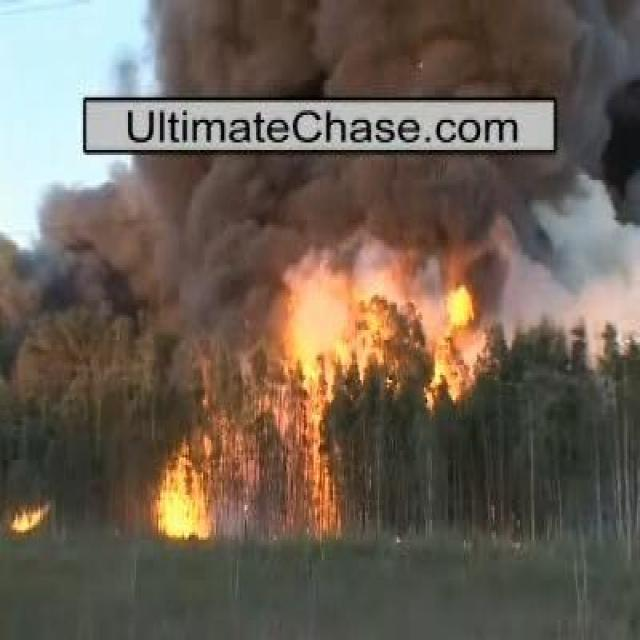fire: (160, 470, 209, 534), (13, 506, 49, 532)
smoke: (49, 166, 606, 298), (152, 8, 578, 92)
